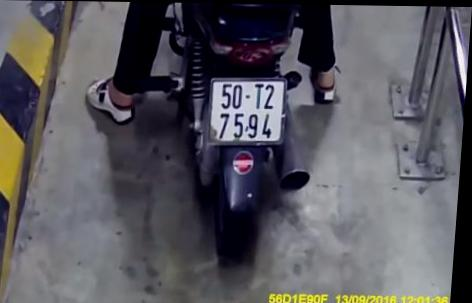License_Plate: (198, 74, 295, 150)
